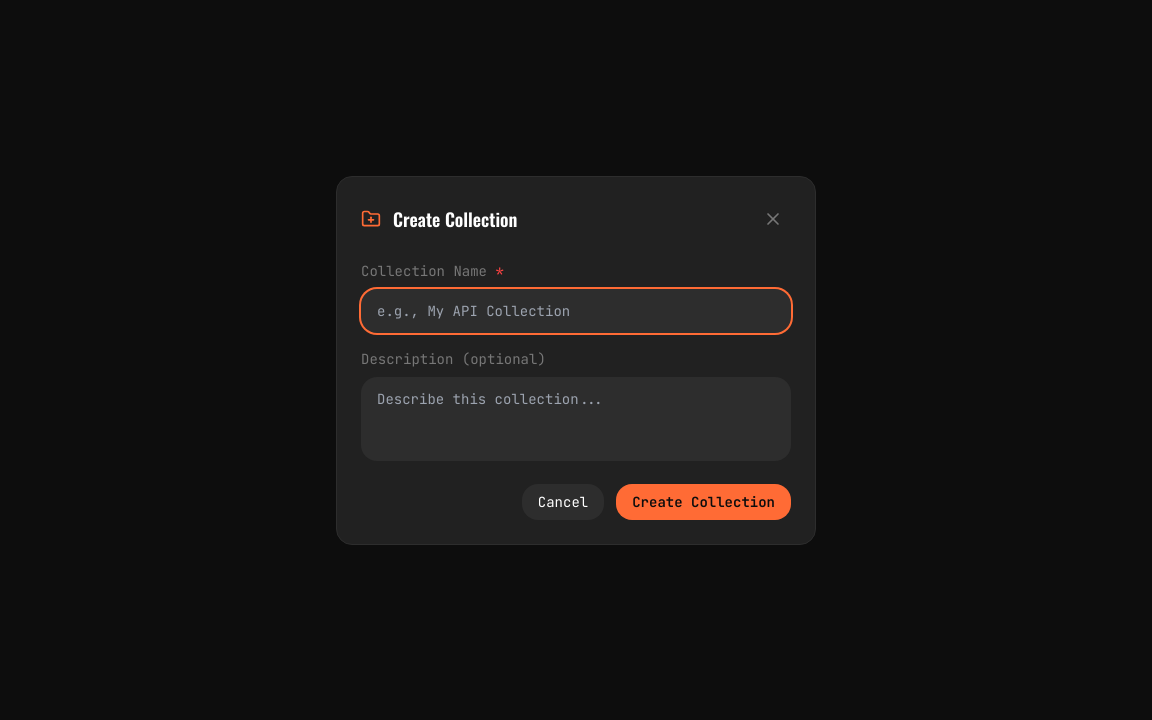
it: CreateCollectionModal › shows error when submitting empty name
// Click the submit button (use role with name for the button specifically)
Step 1. Click the button "Create Collection" → [704, 502], box [616,484,791,520]
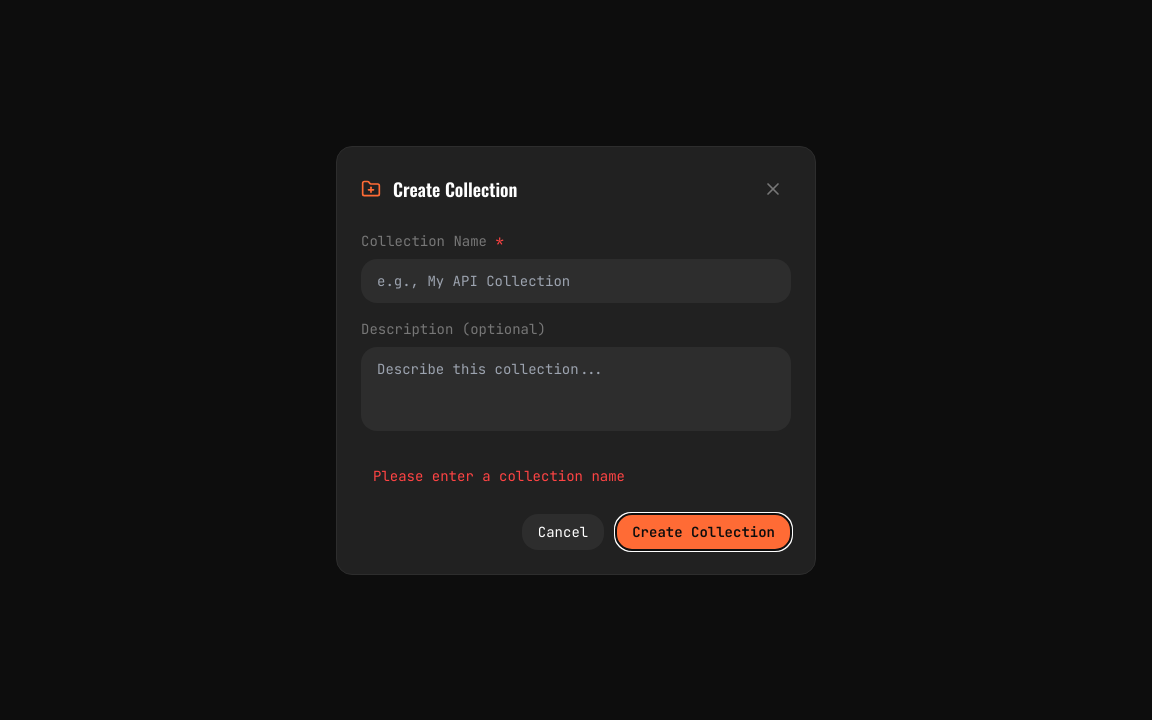
Now the text "Please enter a collection name" is shown, box [373,466,625,484]
